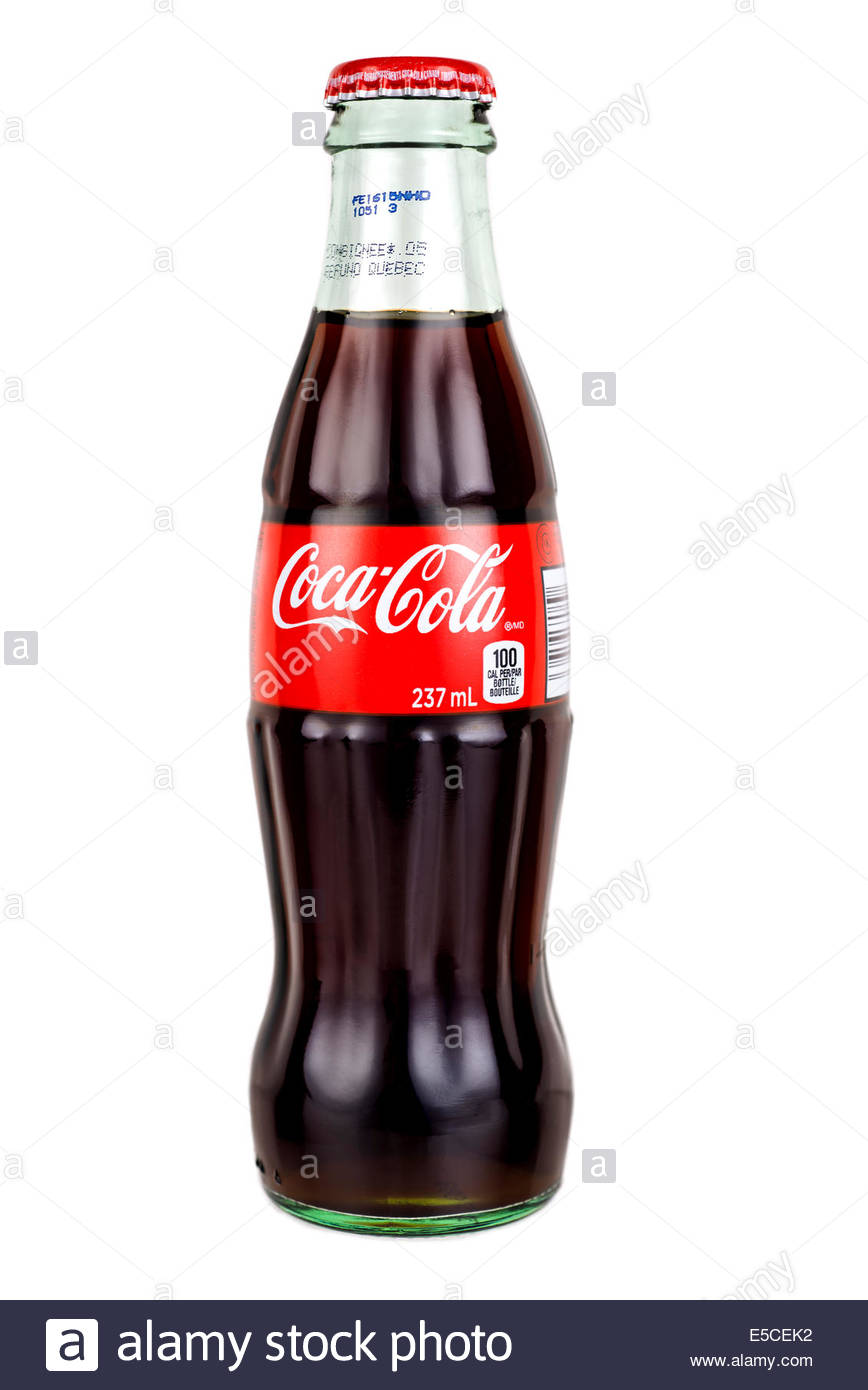coca_cola_bottle: (247, 46, 570, 1238)
